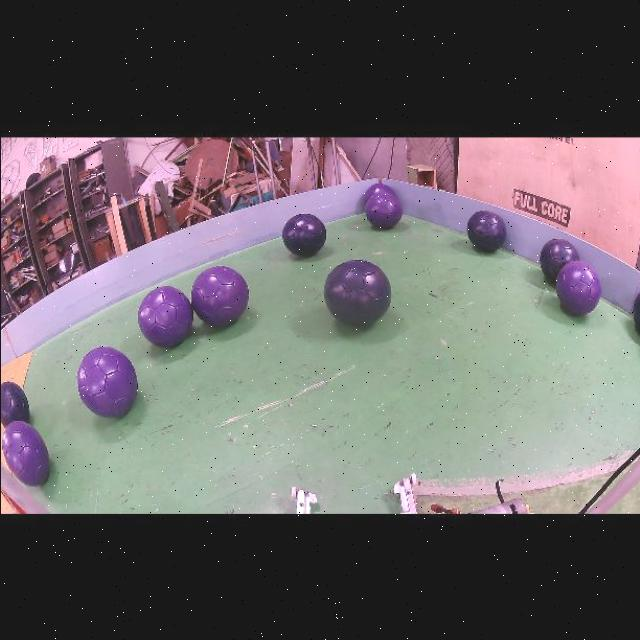B: (323, 258, 391, 324), (281, 211, 325, 254), (539, 236, 578, 282), (465, 209, 506, 251), (0, 380, 29, 426), (631, 290, 640, 332)
P: (76, 345, 136, 416), (190, 264, 247, 324), (137, 284, 192, 345), (1, 419, 48, 484), (556, 258, 600, 313), (365, 190, 401, 227), (363, 180, 395, 200)
